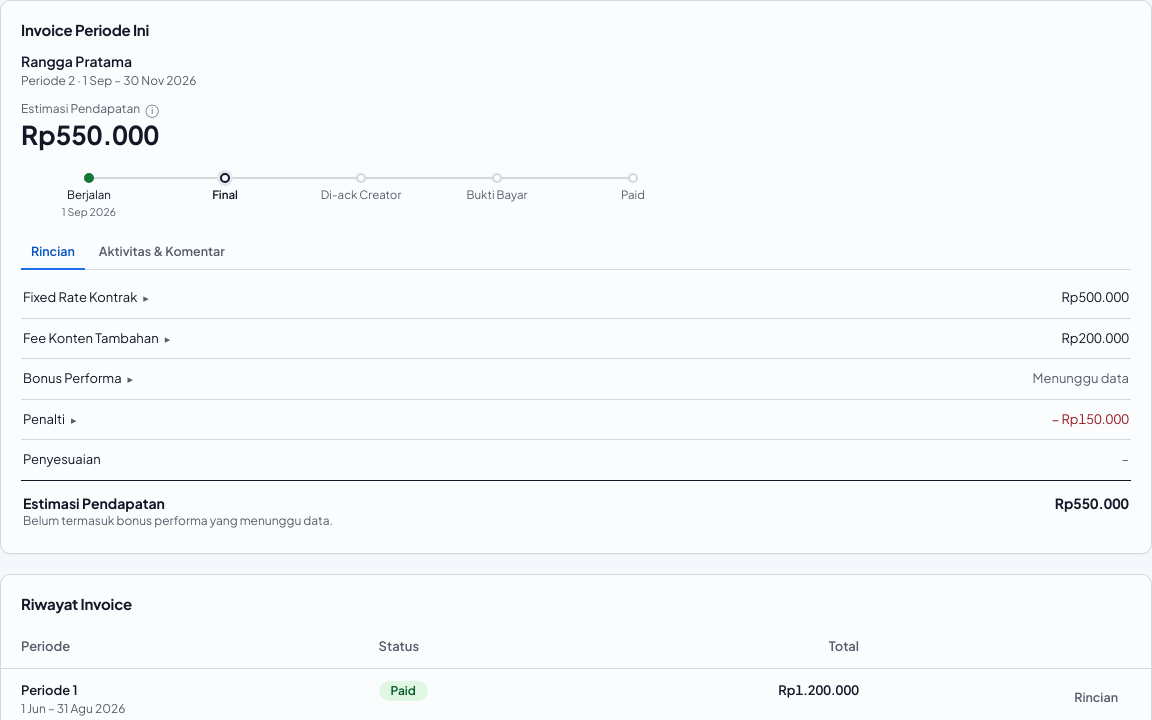
Test: CreatorInvoices › opens an earlier invoice in full from the history, and closes it again
Click the button with aria-label "Rincian invoice Periode 1" at (1096, 698), box top-left (1061, 681), bottom-right (1131, 714)
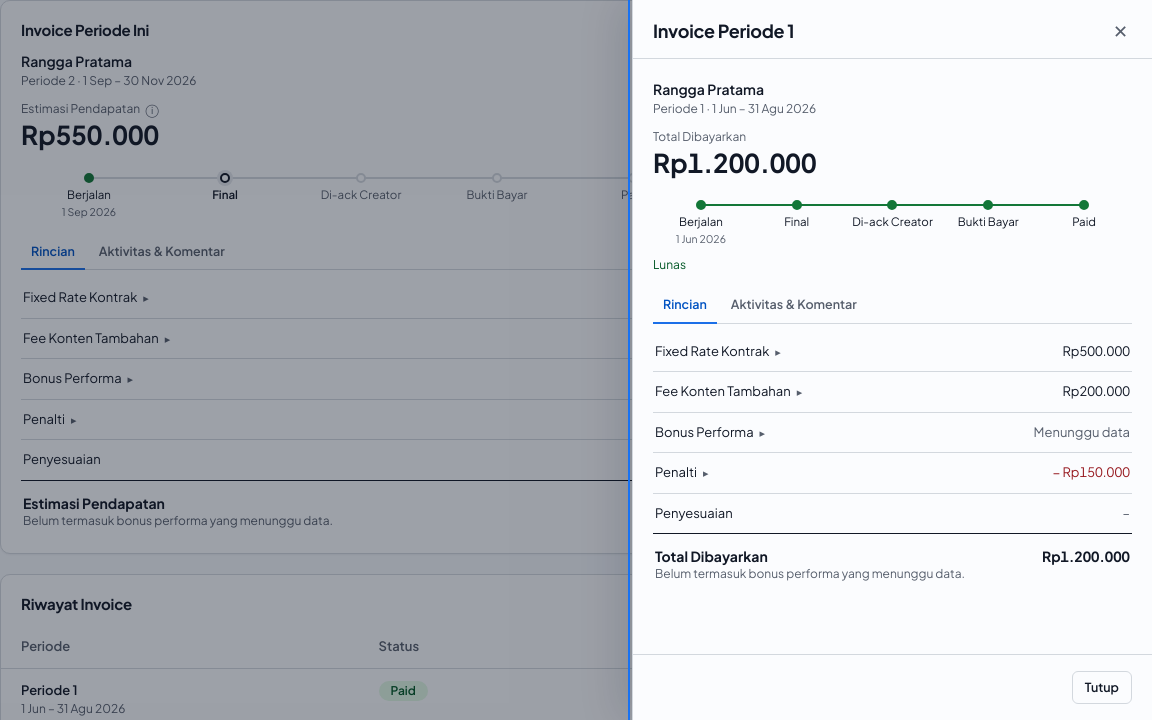
Expected: the element named "Ringkasan invoice" shows "Total Dibayarkan", top-left (653, 129), bottom-right (746, 144)
Click the button "Tutup" at (1102, 688), box top-left (1072, 671), bottom-right (1132, 704)
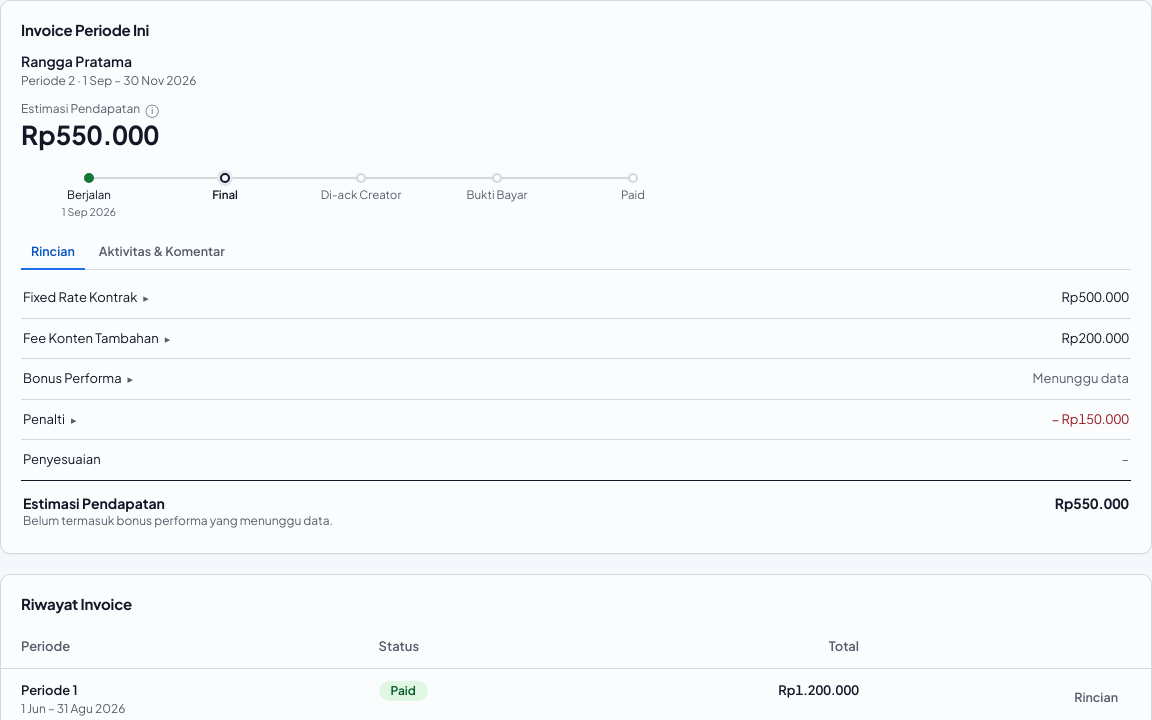
Expected: the dialog is gone
